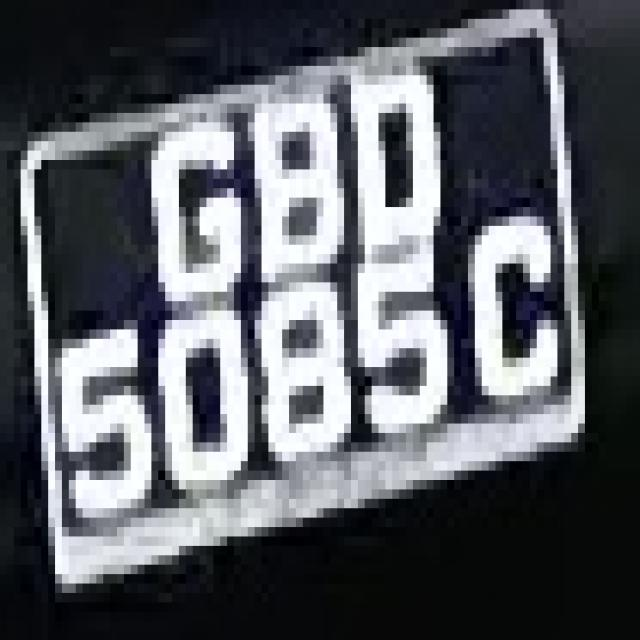0: (165, 282, 255, 499)
5: (48, 301, 165, 527), (351, 244, 468, 470)
8: (261, 264, 351, 471)
B: (241, 66, 358, 292)
C: (461, 207, 571, 414)
D: (330, 57, 461, 254)
G: (130, 85, 248, 320)
